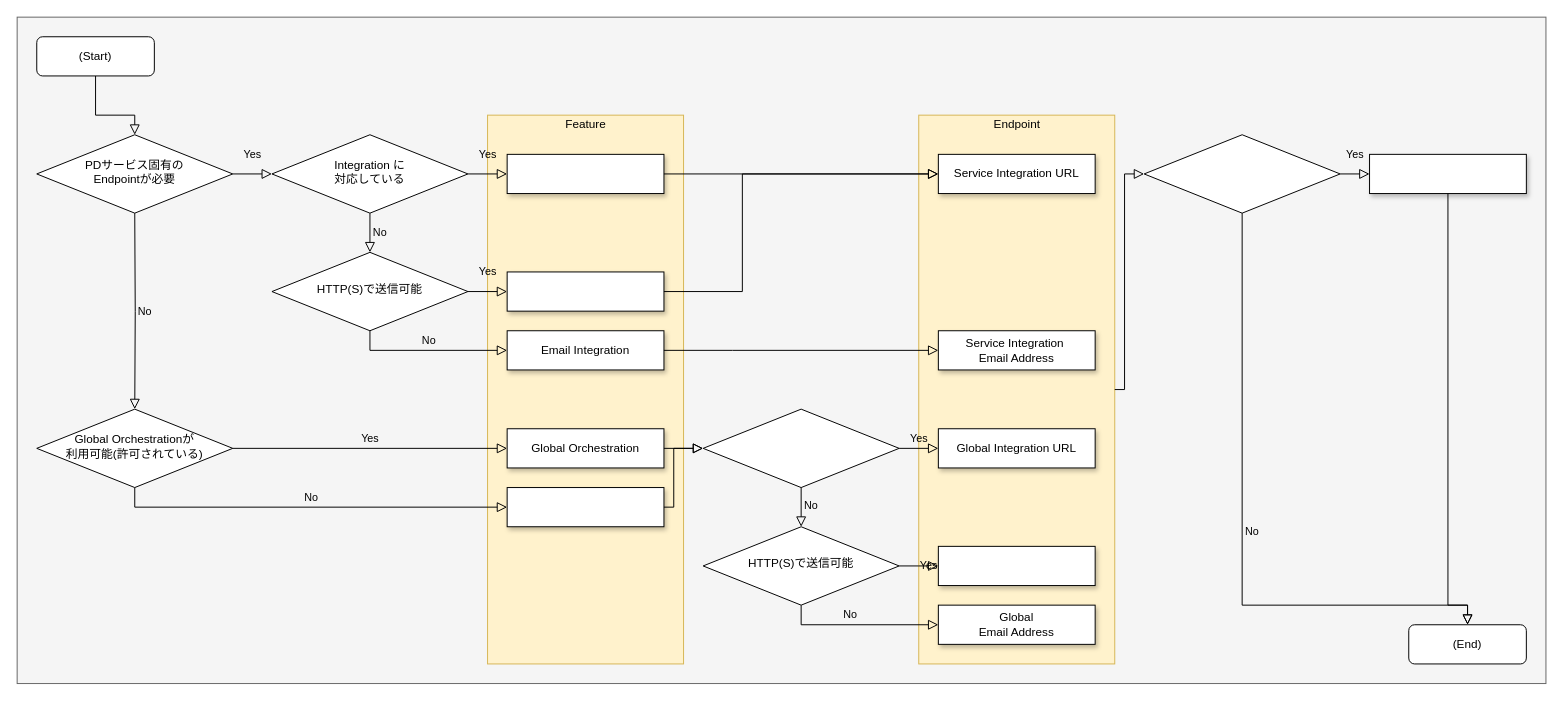
Image size: 1563x701. Some labels were removed from this diagram. The centre of each missing label's shape, as x and y in pixels:
Custom Event Transfer: the point at 586,292
Event Orchestration: the point at 1448,174
Global HTTP endpoint: the point at 1017,566
Global Rulesets: the point at 586,508
PD-CEF に対応している: the point at 800,448
Service Integration: the point at 586,174
ルーティング後に操作が必要: the point at 1241,173
